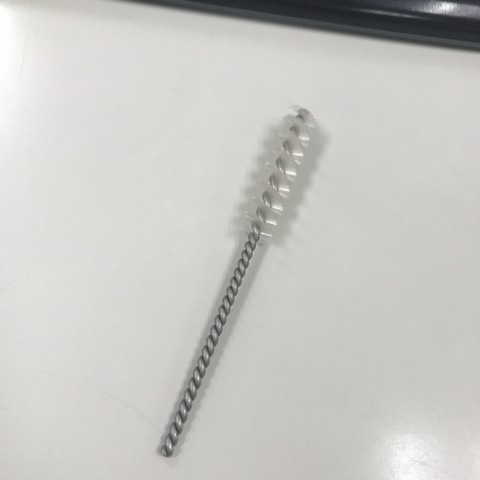Twist Brush-B: (148, 105, 324, 464)
